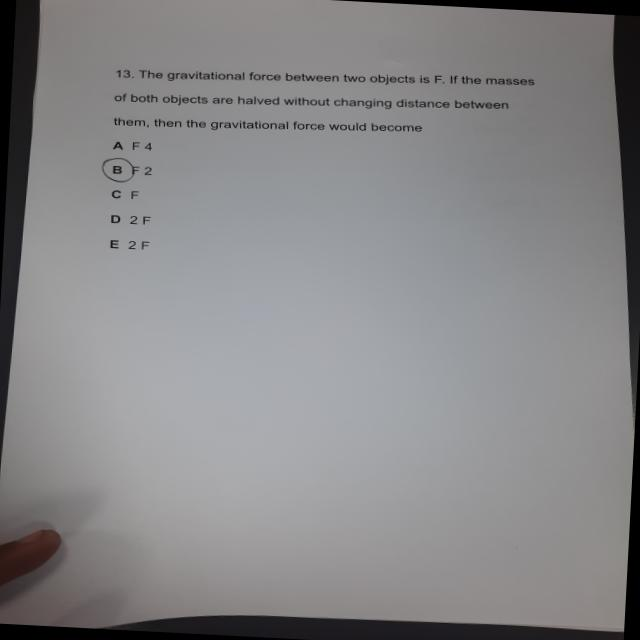B: (98, 157, 141, 186)
